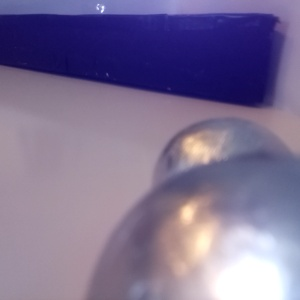zone: (1, 18, 300, 211)
